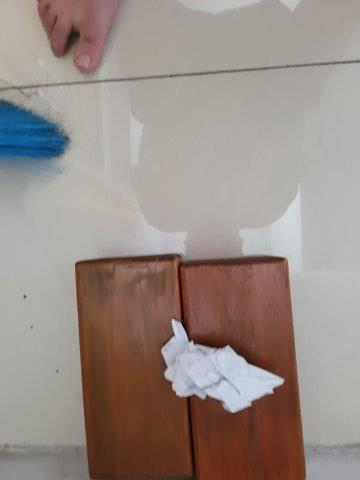kertas: (162, 313, 285, 410)
